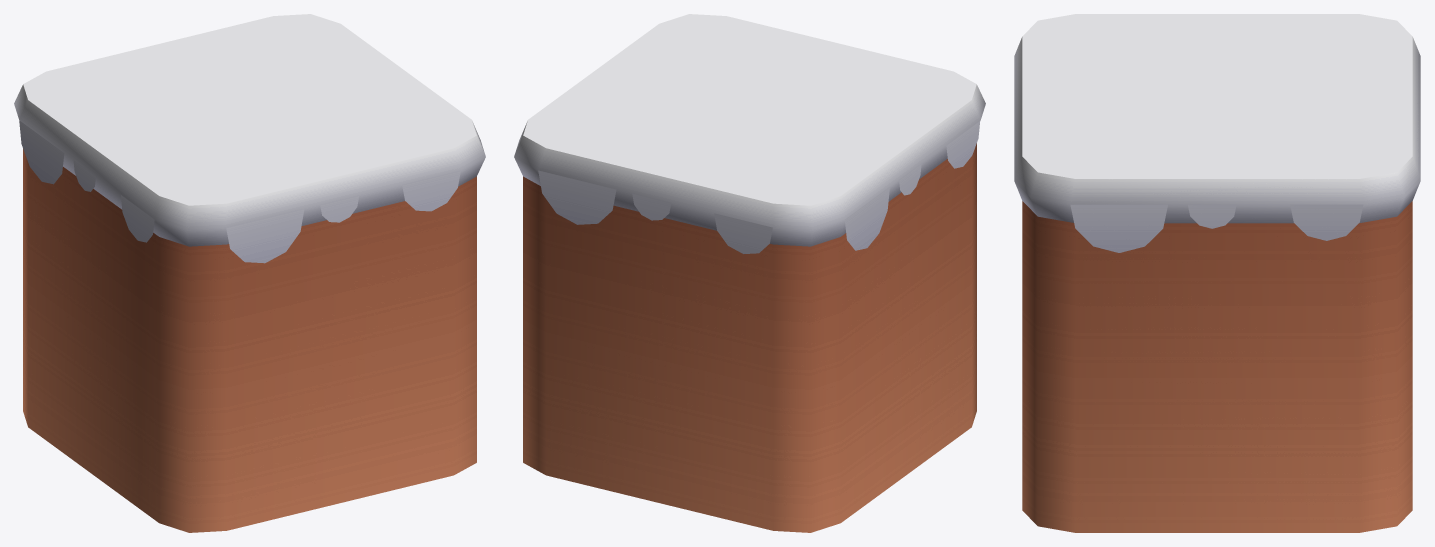
Rendered from block-snow-overhang-large-tall.glb.
3 views of the same model, side by side, from view 1: azimuth 30°, elevation 25°; view 2: azimuth 150°, elevation 25°; view 3: azimuth 270°, elevation 25° (orthographic). The views are drawn at different scales.
Visible parts, largest first — view 1: block-snow-overhang-large-tall; view 2: block-snow-overhang-large-tall; view 3: block-snow-overhang-large-tall.
Boxes of the visible parts, x1=… form: block-snow-overhang-large-tall: x1=14, y1=14, x2=485, y2=532; block-snow-overhang-large-tall: x1=514, y1=14, x2=985, y2=532; block-snow-overhang-large-tall: x1=1014, y1=14, x2=1420, y2=532.
Bounding box in the file's own units: 2.08 × 2 × 2.08.
Materials: 1 (1 with a texture image).
